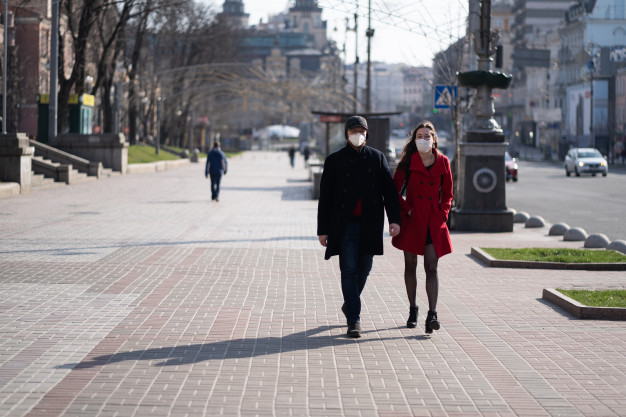car: (557, 141, 614, 180)
person: (310, 110, 404, 340), (387, 111, 465, 341), (198, 138, 236, 206)
